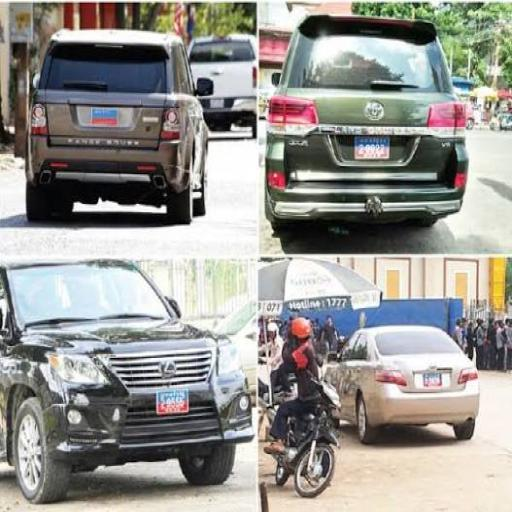Plate Number: (354, 134, 391, 160), (157, 388, 190, 414), (89, 108, 121, 125), (424, 370, 444, 388)
